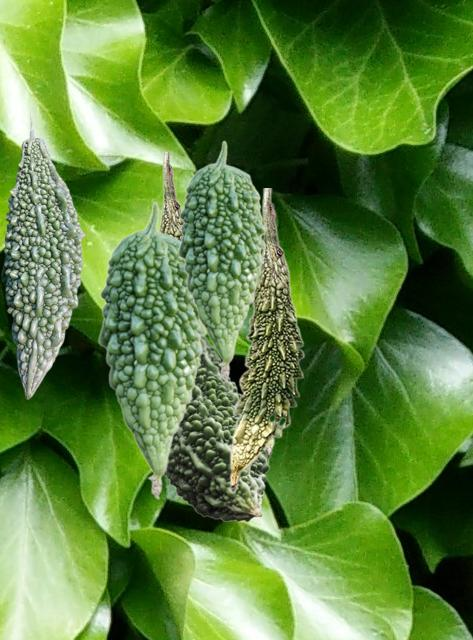ampalaya: (97, 201, 206, 499), (1, 112, 84, 398), (229, 188, 304, 493), (177, 140, 265, 381), (165, 337, 269, 521), (159, 152, 182, 238)
